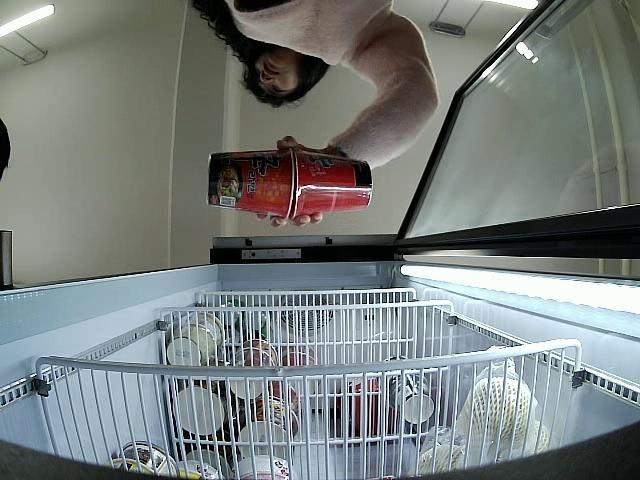02_shinRamen_S: (204, 147, 294, 223), (293, 147, 377, 218)
